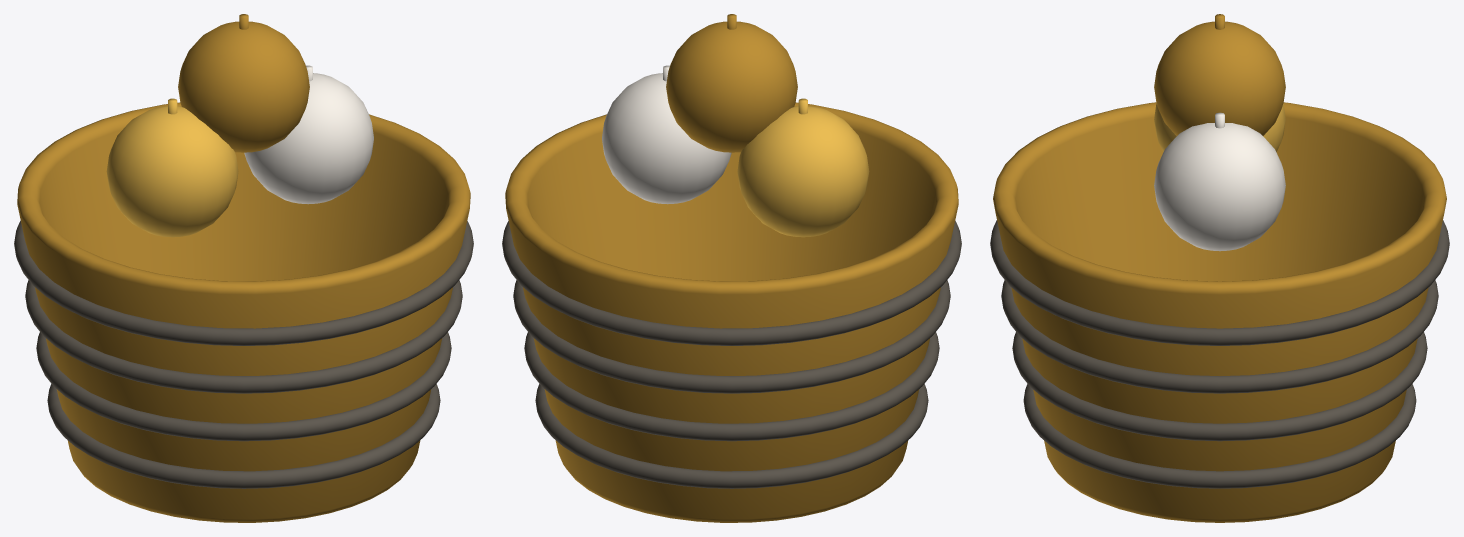
File: consumo-nao-ciclico.glb
3 views of the same model, side by side, from view 1: azimuth 30°, elevation 25°; view 2: azimuth 150°, elevation 25°; view 3: azimuth 270°, elevation 25° (orthographic).
Parts seen in each view (by area): view 1: Cesta, Fruta1, Fruta3, Fruta2; view 2: Cesta, Fruta1, Fruta3, Fruta2; view 3: Cesta, Fruta2, Fruta3, Fruta1.
Boxes of the visible parts, left/top/right/bottom form: Cesta: left=14, top=102, right=473, bottom=522; Fruta1: left=106, top=98, right=238, bottom=237; Fruta3: left=178, top=14, right=309, bottom=152; Fruta2: left=244, top=65, right=373, bottom=204; Cesta: left=502, top=102, right=961, bottom=522; Fruta1: left=737, top=98, right=869, bottom=237; Fruta3: left=666, top=14, right=797, bottom=152; Fruta2: left=602, top=65, right=731, bottom=204; Cesta: left=990, top=102, right=1449, bottom=522; Fruta2: left=1154, top=112, right=1285, bottom=251; Fruta3: left=1154, top=14, right=1285, bottom=135; Fruta1: left=1154, top=103, right=1285, bottom=151.
Bounding box in the file's own units: 0.9538 × 1 × 0.9538.
